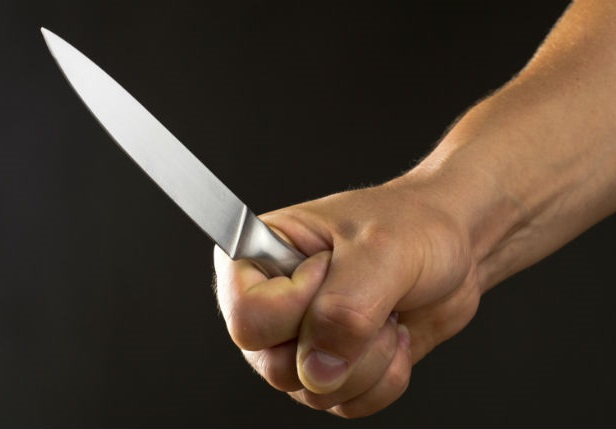knife: (36, 22, 393, 390)
